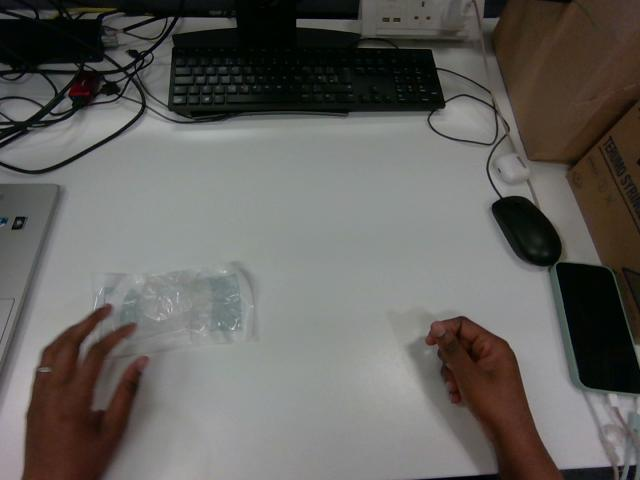gallipot: (95, 265, 254, 355)
